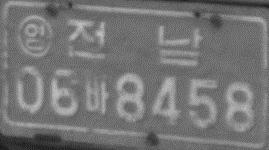0: (15, 64, 45, 115)
4: (150, 75, 181, 126)
5: (186, 77, 221, 129)
6: (49, 67, 79, 117)
8: (223, 81, 256, 135), (114, 72, 145, 122)
마: (65, 17, 201, 67)
바: (83, 74, 110, 116)
영: (17, 13, 54, 57)
